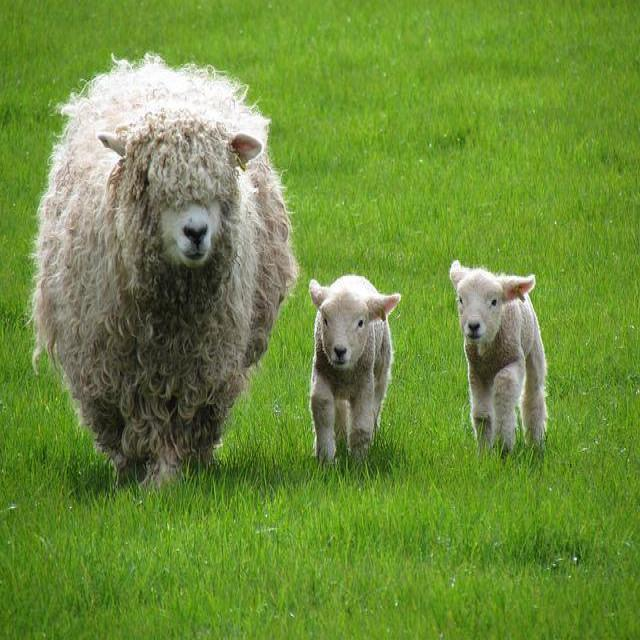Sheep: (30, 54, 303, 498), (310, 257, 550, 464)
